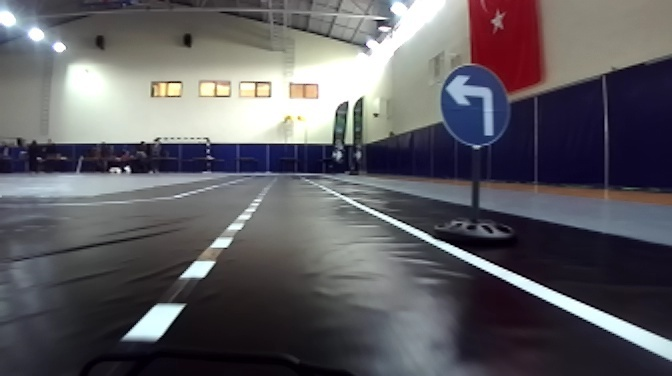sola_donus: (436, 67, 512, 144)
